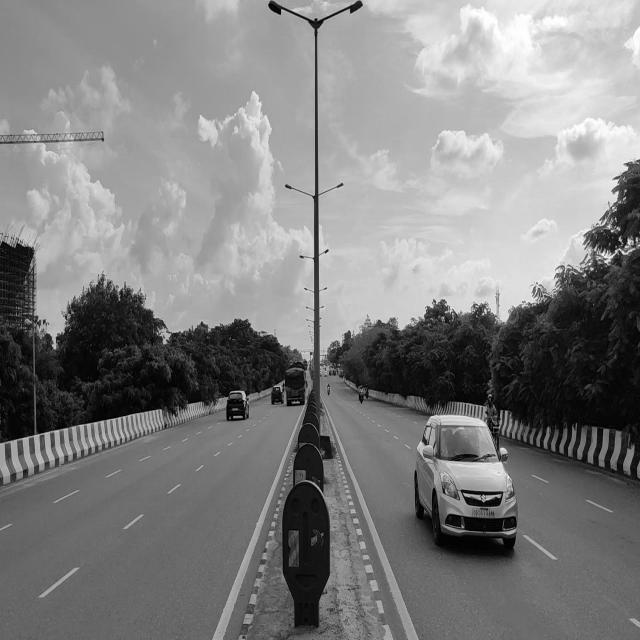car: (410, 411, 523, 563)
